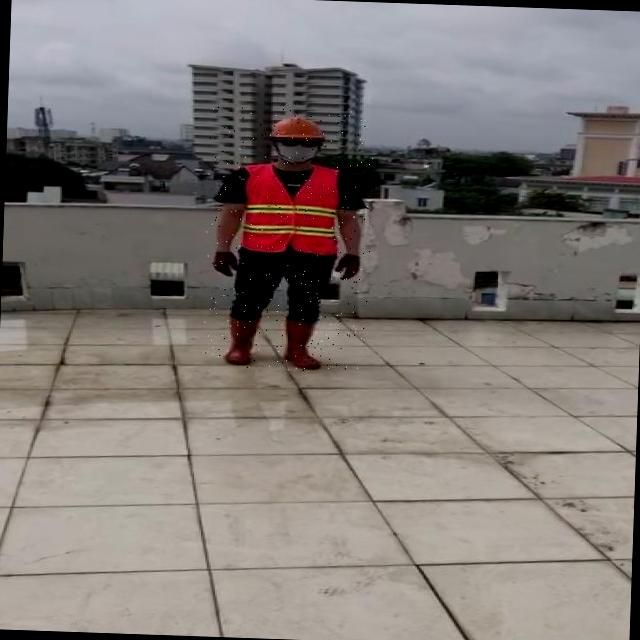boots: (280, 318, 326, 371), (222, 314, 260, 367)
gloves: (198, 237, 255, 270), (331, 240, 367, 288)
helmet: (268, 114, 323, 139)
vest: (242, 163, 340, 254)
